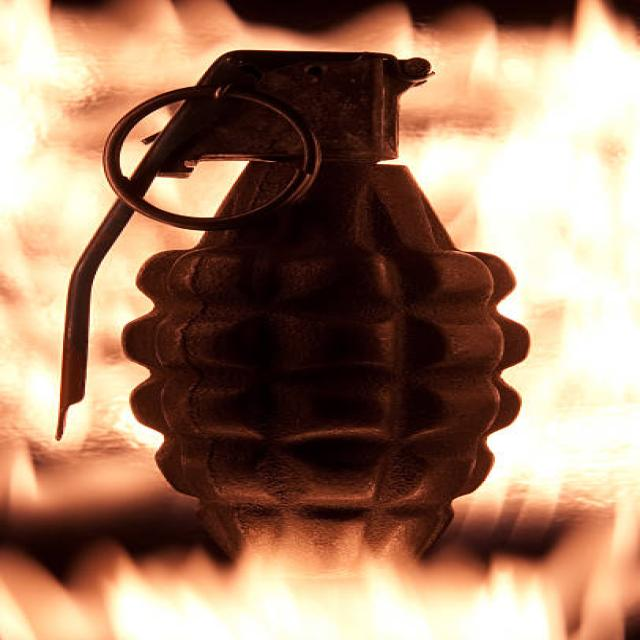grenade: (38, 35, 536, 596)
